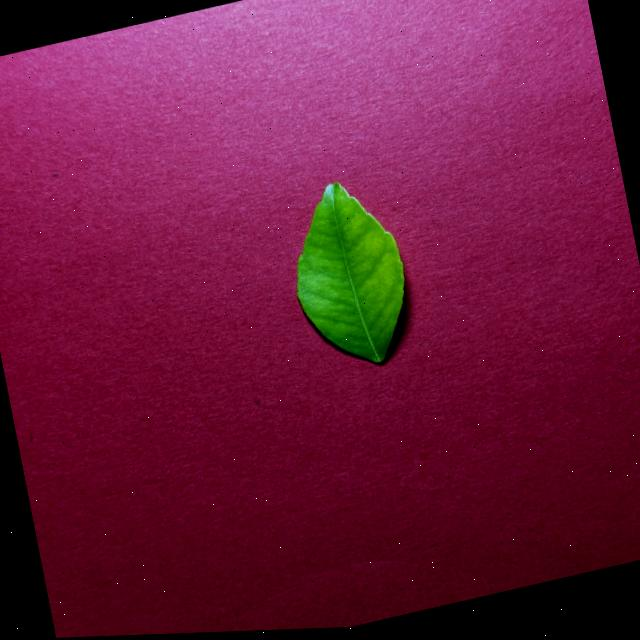greening: (298, 183, 404, 362)
